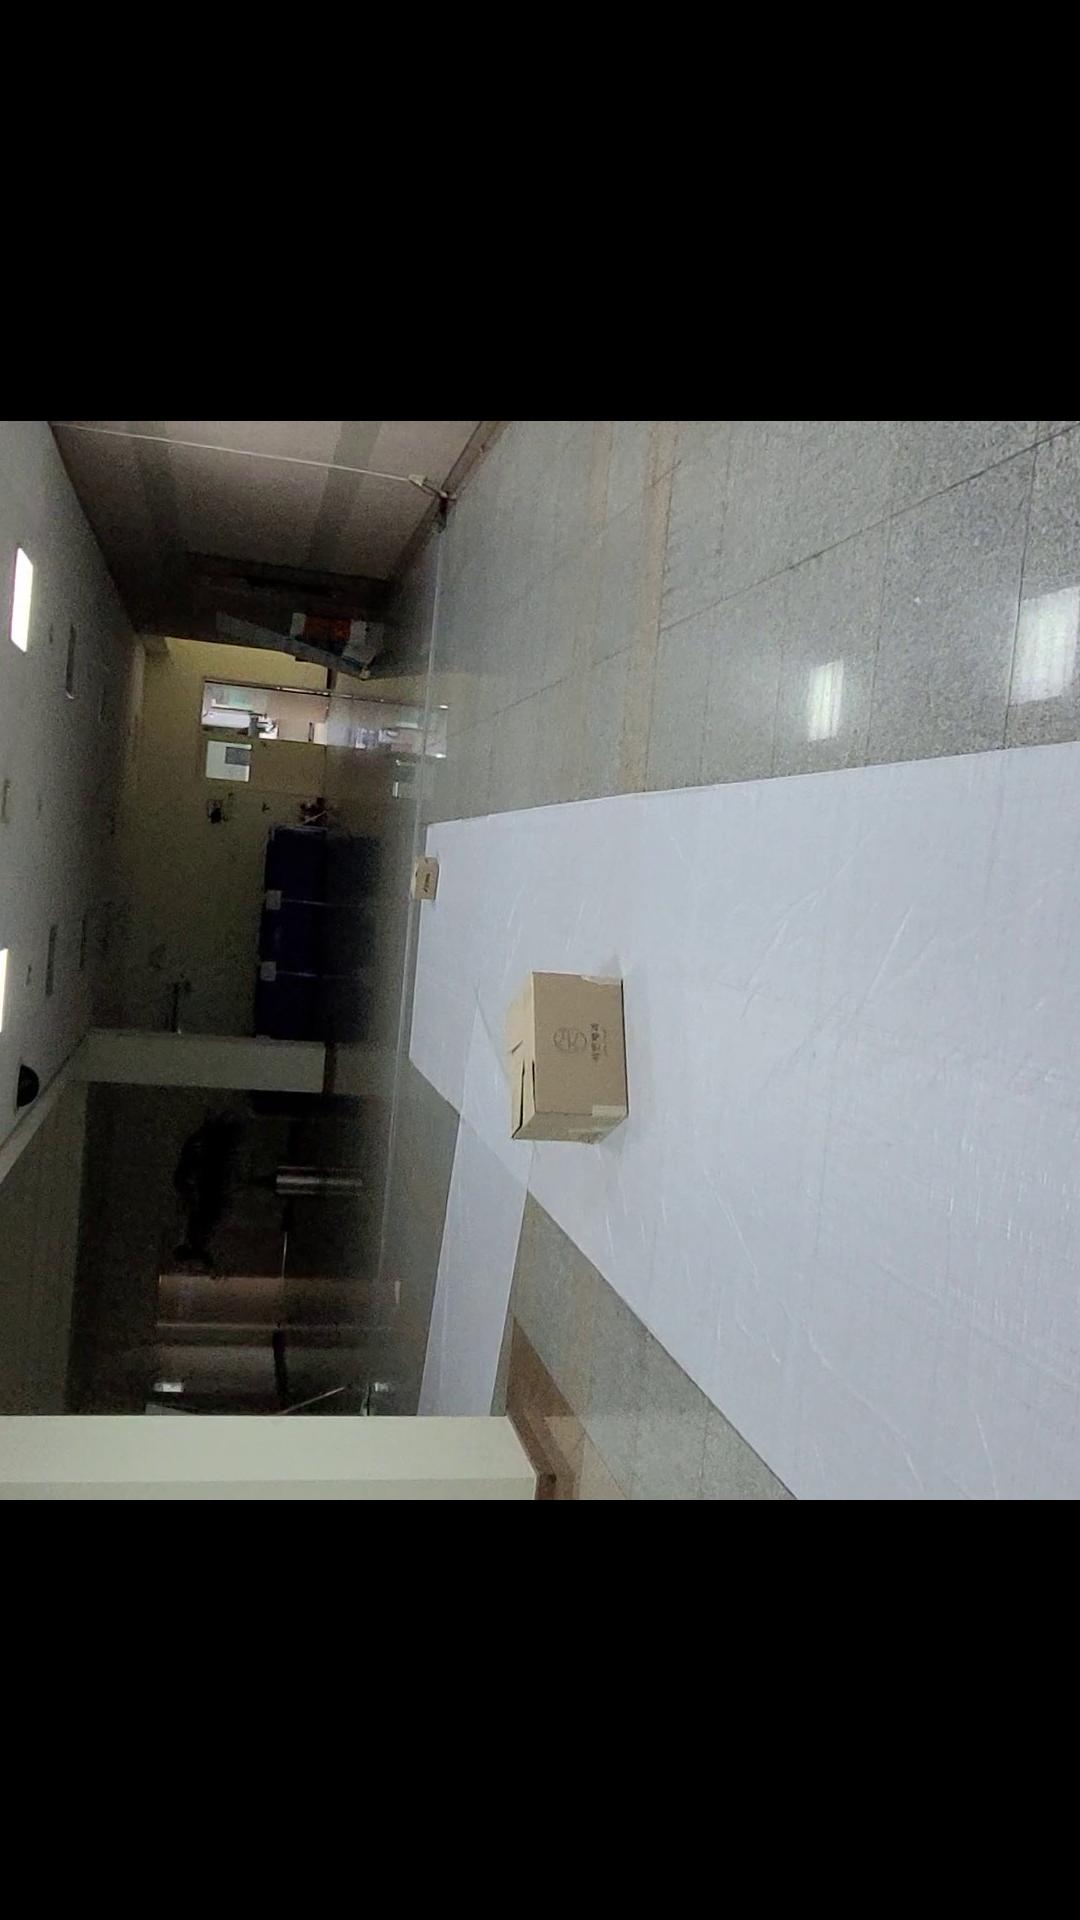Box: (480, 947, 661, 1168), (380, 833, 462, 916)
